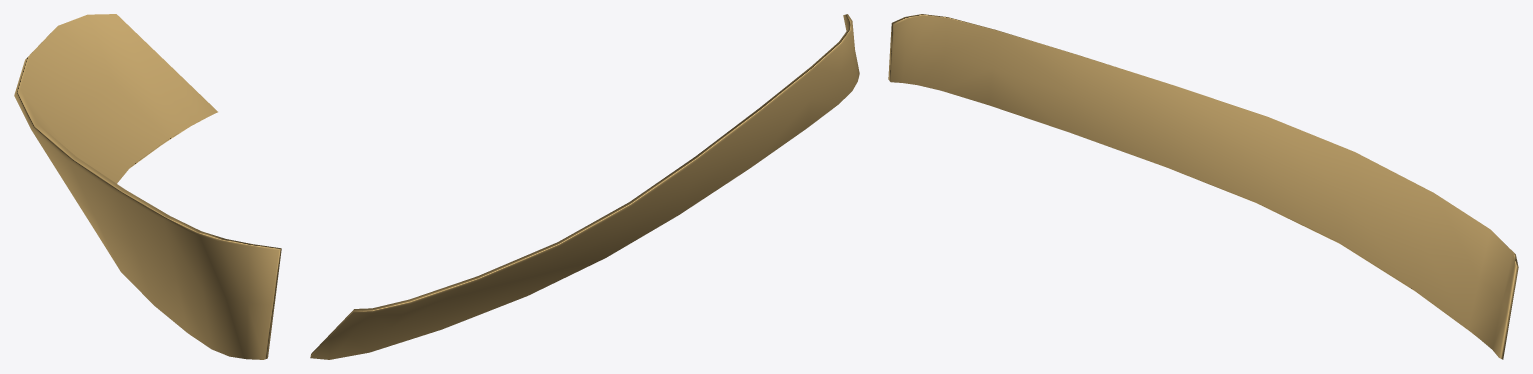
The picture shows the model from 3 angles, left to right: view 1: azimuth 30°, elevation 25°; view 2: azimuth 150°, elevation 25°; view 3: azimuth 270°, elevation 25°; orthographic projection. The views are drawn at different scales.
Visible parts, largest first — view 1: 左侧胫侧副韧带浅部; view 2: 左侧胫侧副韧带浅部; view 3: 左侧胫侧副韧带浅部.
Part boxes in pixels (bbox=[...]): 左侧胫侧副韧带浅部: bbox=[14, 14, 281, 359]; 左侧胫侧副韧带浅部: bbox=[310, 14, 859, 359]; 左侧胫侧副韧带浅部: bbox=[888, 14, 1518, 359].
Bounding box in the file's own units: 0.0484 × 0.0331 × 0.091.
